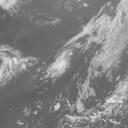cyclone: (48, 52, 67, 77)
